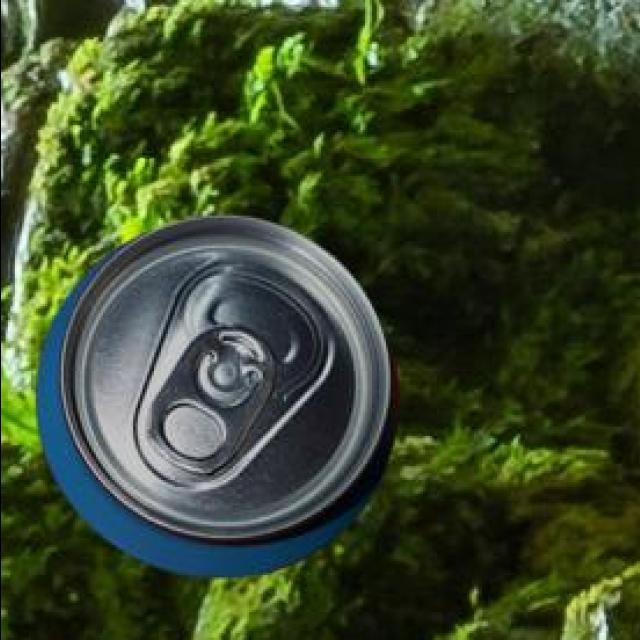logam: (31, 219, 393, 579)
